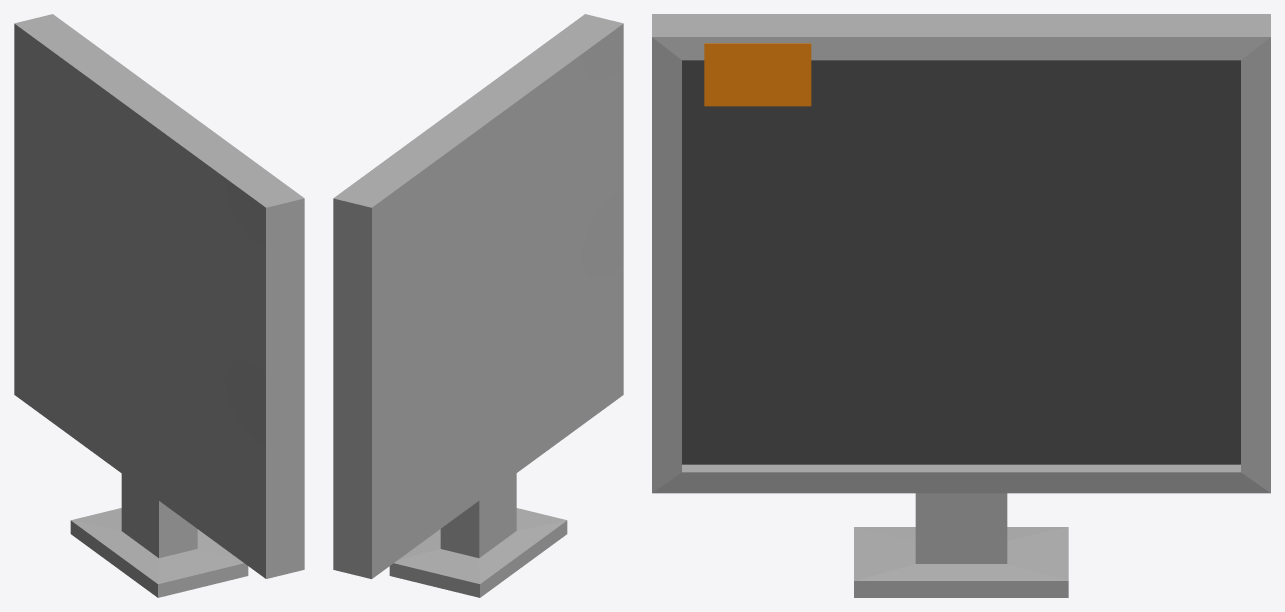
The model's file is Monitor.fbx.
The picture shows the model from 3 angles, left to right: view 1: azimuth 30°, elevation 25°; view 2: azimuth 150°, elevation 25°; view 3: azimuth 270°, elevation 25°; orthographic projection. The views are drawn at different scales.
Visible parts, largest first — view 1: Cube.001; view 2: Cube.001; view 3: Cube.001.
Part boxes in pixels (x1,y1,x2,y2): Cube.001: (14,14,304,597); Cube.001: (333,14,623,597); Cube.001: (652,14,1270,597).
Size of the model in its own units: 55.54 by 261 by 268.
